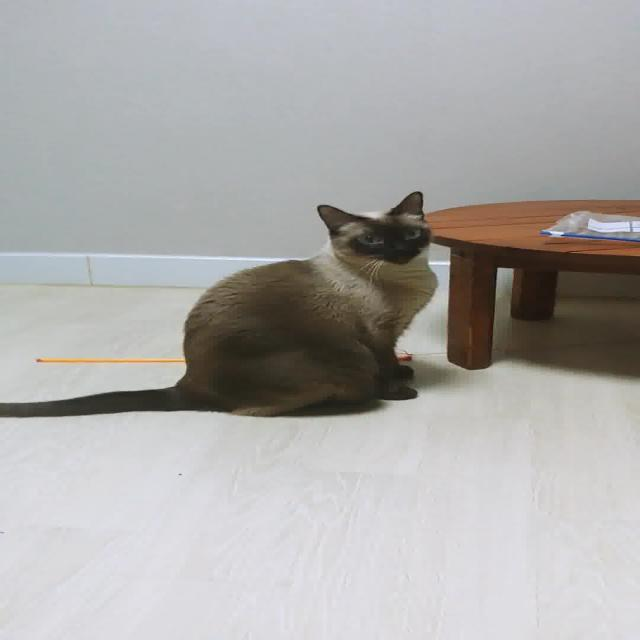cat: (0, 173, 447, 426)
